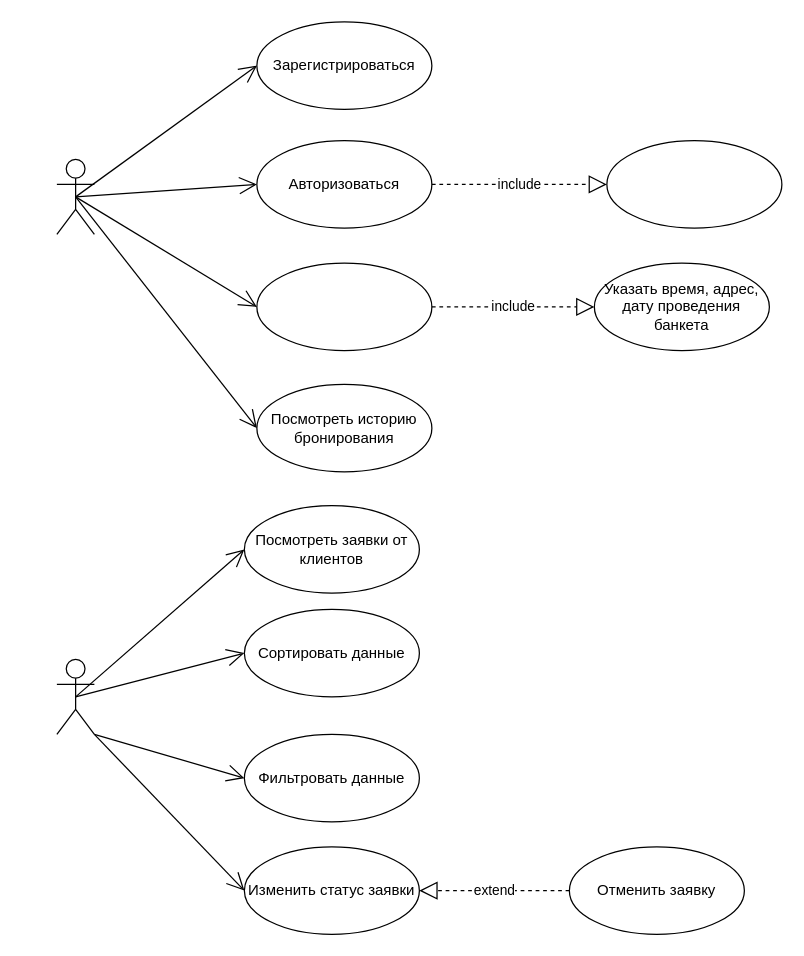
Some shapes in this 804 by 956 pixel diagram are drawn without their labels. Each missing label, with the centre of its shape:
"Администратор" goes at (75,696).
"Забронировать банкетный зал" goes at (344,306).
"Клиент" goes at (75,196).
"Указать валидные логин и пароль" goes at (694,183).
